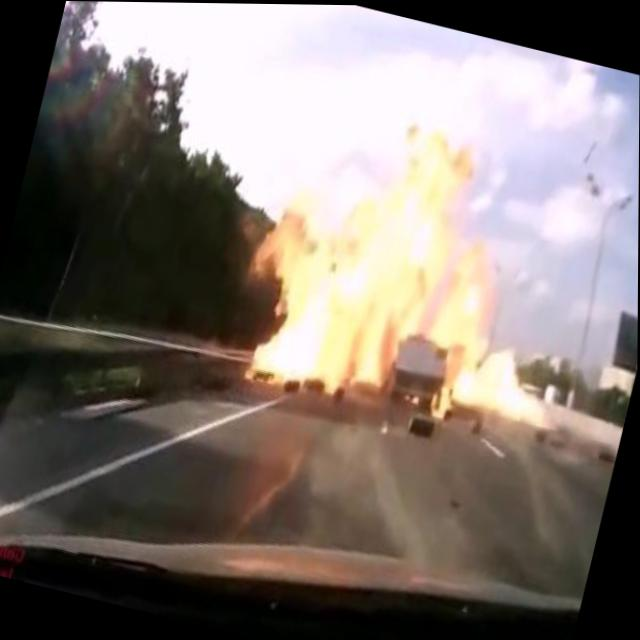fire: (217, 69, 623, 470)
